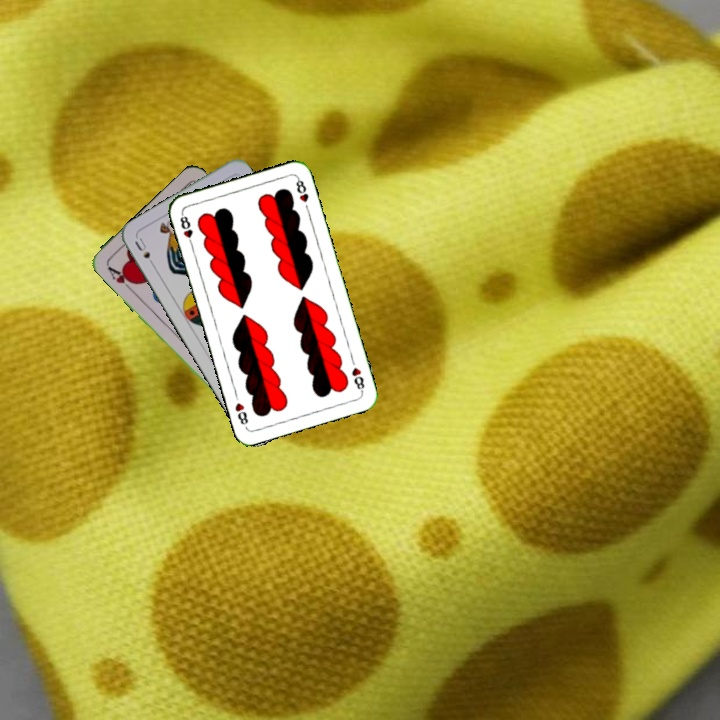H8: (176, 209, 196, 249), (348, 363, 367, 395)
HA: (104, 262, 138, 294)
SU: (131, 234, 158, 271)
